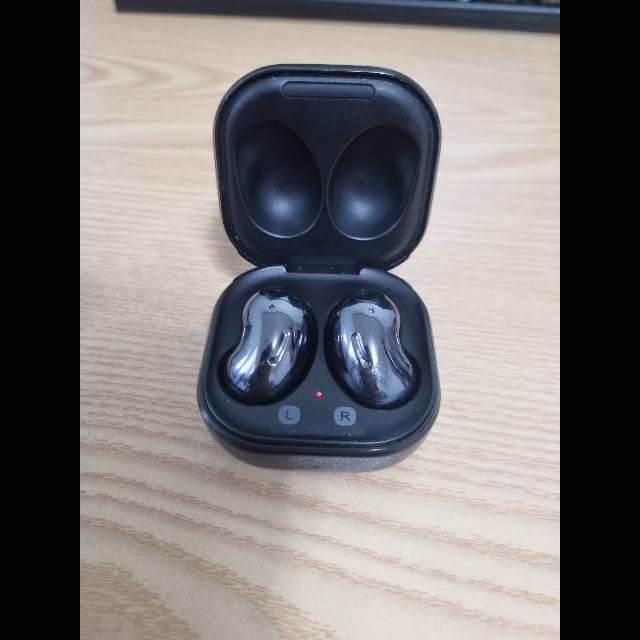buds_live: (193, 59, 443, 474)
